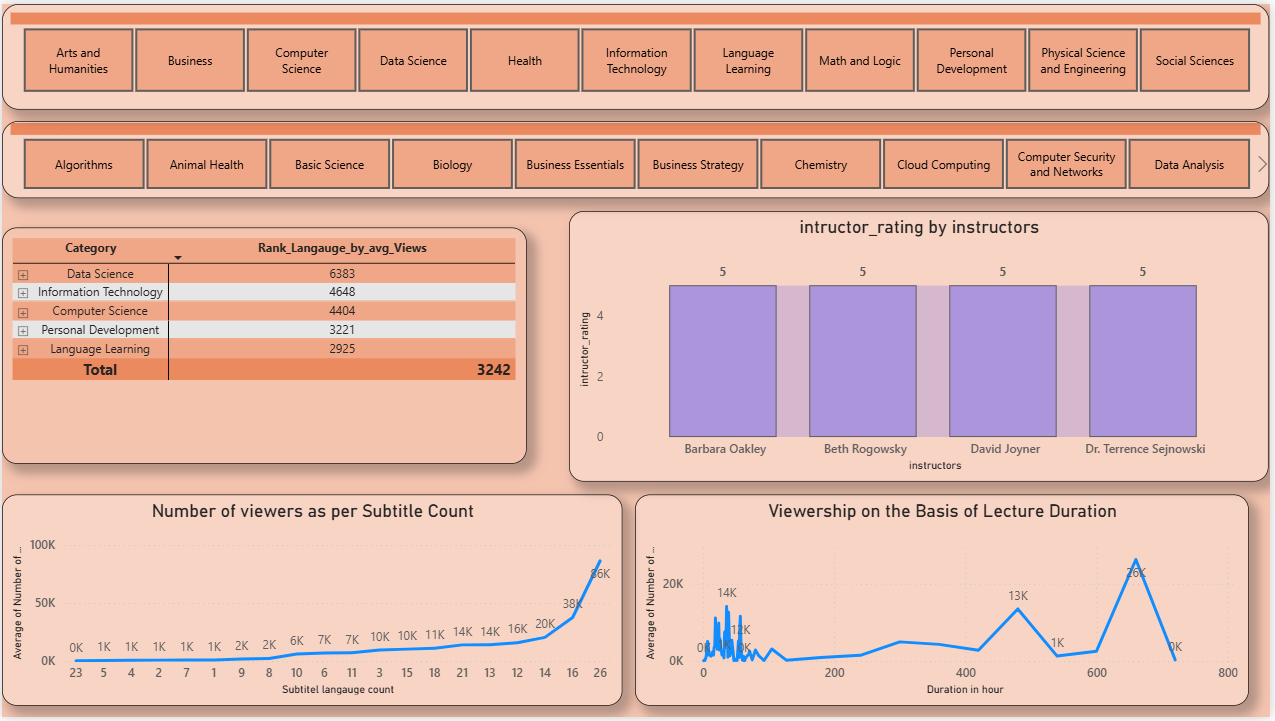

Layout of this report page (visuals, bound fields, positions):
{"tool":"powerbi","page":{"name":"Engagement Analysis Dashboard","canvas":[1280,720],"ordinal":1},"visuals":[{"type":"pivotTable","fields":{"Rows":["Online_Courses.Category","Online_Courses.Language"],"Values":["Online_Courses.Rank_Langauge_by_avg_Views"]},"box":[0,225,530,238.3],"z":0},{"type":"lineChart","title":"Number of viewers as per Subtitle Count","fields":{"Category":["Online_Courses.Subtitel langauge count"],"Y":["Avg(Online_Courses.Number of viewers)"]},"box":[0,495,626.7,213.3],"z":1000},{"type":"columnChart","fields":{"Category":["teacher.instructors"],"Y":["teacher.intructor_rating"]},"box":[573.3,208.3,706.7,273.3],"z":2000},{"type":"slicer","fields":{"Values":["teacher.Sub-Category"]},"box":[0,118,1280,78],"z":3000},{"type":"slicer","fields":{"Values":["Online_Courses.Category"]},"box":[0,0,1280,106.7],"z":4000},{"type":"lineChart","title":"Viewership on the Basis of Lecture Duration ","fields":{"Category":["Online_Courses.Duration in hour"],"Y":["Avg(Online_Courses.Number of viewers)"]},"box":[640,495,620,213.3],"z":5000}]}

Visuals, with their boxes in screenshot pixels (x1, y1, x2, y2), scaled from the page's 1280x720 canvas onto the 1275x721 screenshot:
pivotTable - Online_Courses.Category x Online_Courses.Language: rect(0, 225, 528, 464)
"Number of viewers as per Subtitle Count" lineChart: rect(0, 496, 624, 709)
columnChart - teacher.instructors x teacher.intructor_rating: rect(571, 209, 1274, 482)
slicer - teacher.Sub-Category: rect(0, 118, 1274, 196)
slicer - Online_Courses.Category: rect(0, 0, 1274, 107)
"Viewership on the Basis of Lecture Duration " lineChart: rect(638, 496, 1255, 709)
